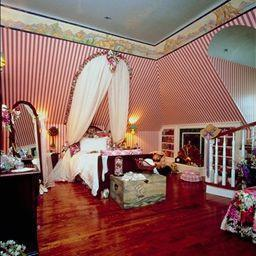Cama: (74, 132, 156, 172)
